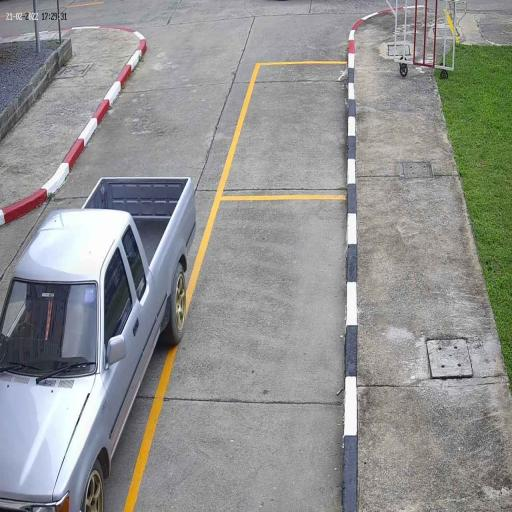car: (0, 174, 198, 512)
